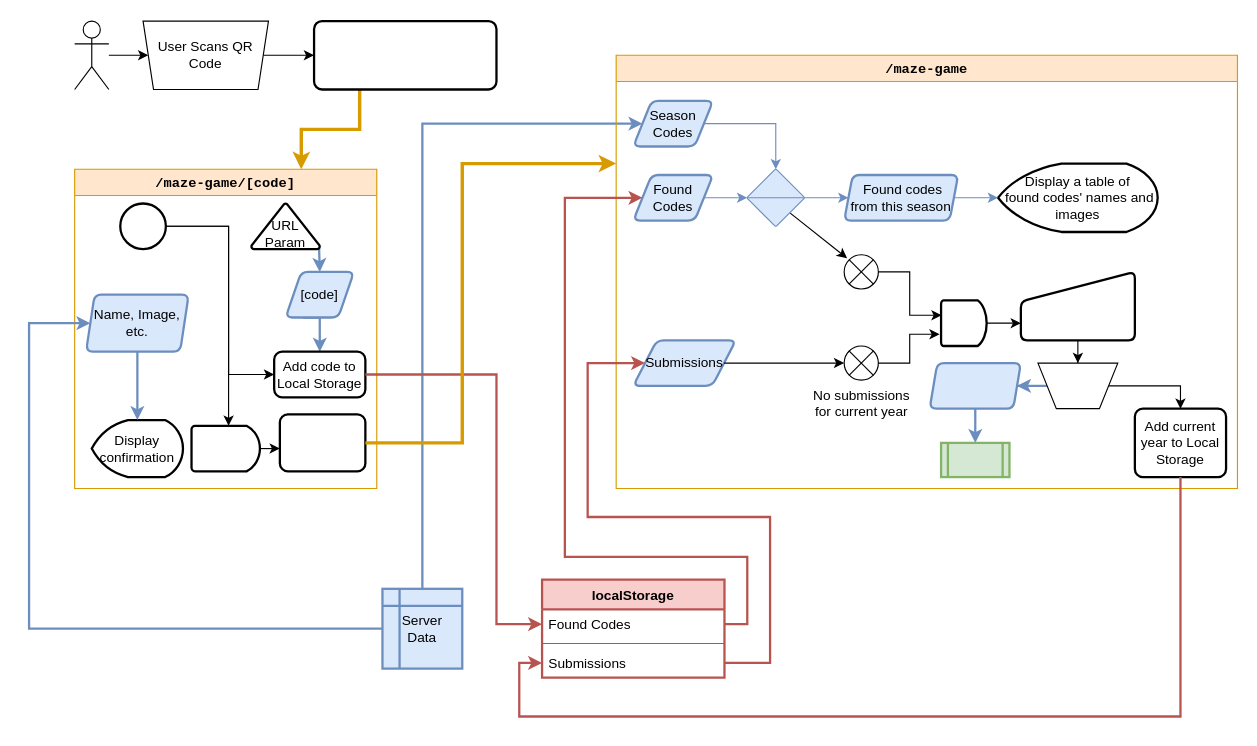
This 1257x746 diagram has some shape labels left out. The centre of each missing label's shape, as x and y in pixels:
"All Match?" goes at pixel 860 271.
"Compare" goes at pixel 775 197.
"Display Submission Form" goes at pixel 1077 305.
"Email API" goes at pixel 974 459.
"Navigate to /maze-game" goes at pixel 322 442.
"Opens Browser, navigates to /maze-game/[code]" goes at pixel 404 54.
"Submission" goes at pixel 974 385.
"Submit" goes at pixel 1077 385.
"Wait 5 seconds" goes at pixel 225 448.
